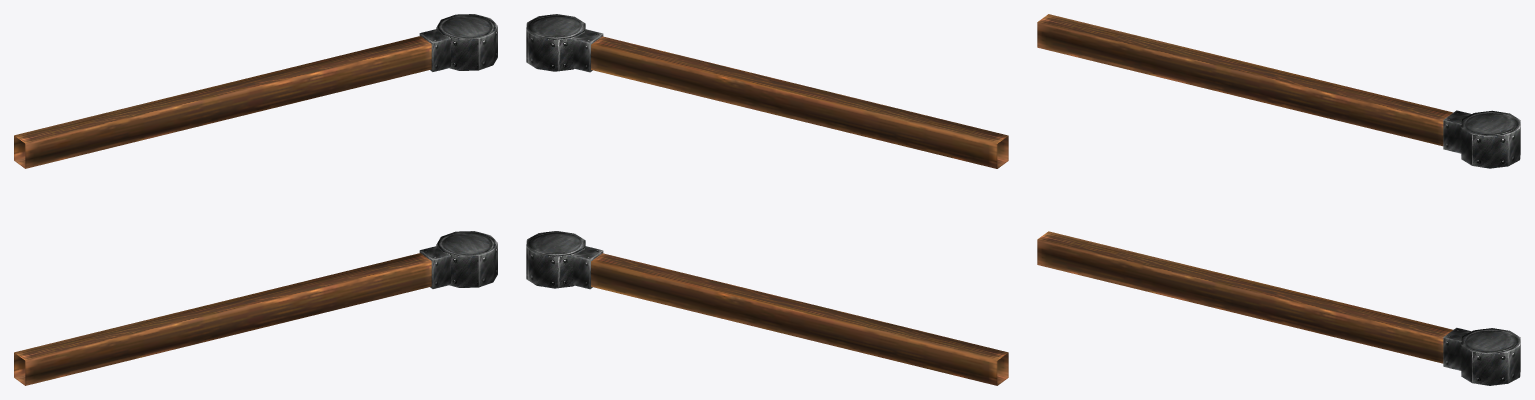
File: INST_SWORDLIGHT_WATERWHLSLIDER.fbx
3 views of the same model, side by side, from view 1: azimuth 30°, elevation 25°; view 2: azimuth 150°, elevation 25°; view 3: azimuth 330°, elevation 25° (orthographic).
Visible parts, largest first — view 1: INST_SWORDLIGHT_WATERWHLSLIDER; view 2: INST_SWORDLIGHT_WATERWHLSLIDER; view 3: INST_SWORDLIGHT_WATERWHLSLIDER.
Part boxes in pixels (bbox=[...]): INST_SWORDLIGHT_WATERWHLSLIDER: bbox=[14, 14, 497, 385]; INST_SWORDLIGHT_WATERWHLSLIDER: bbox=[526, 14, 1008, 385]; INST_SWORDLIGHT_WATERWHLSLIDER: bbox=[1037, 14, 1520, 385].
Size of the model in its own units: 182635 by 91634 by 20405.
3 materials, 3 textured.
